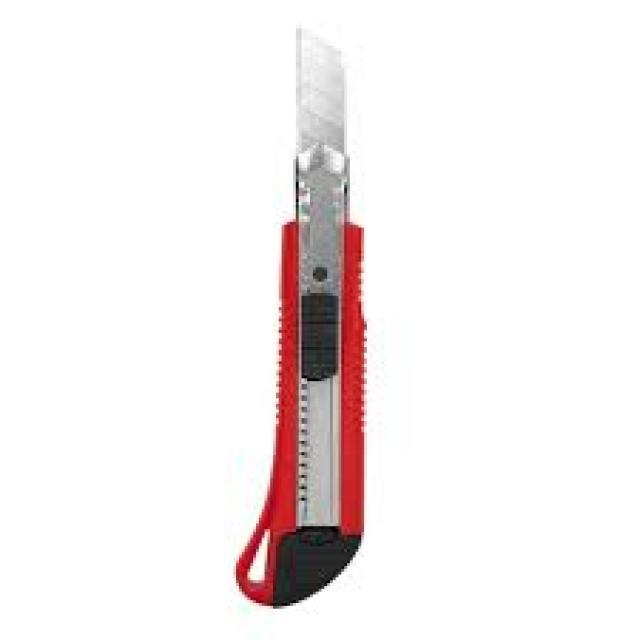cutter: (229, 17, 376, 610)
